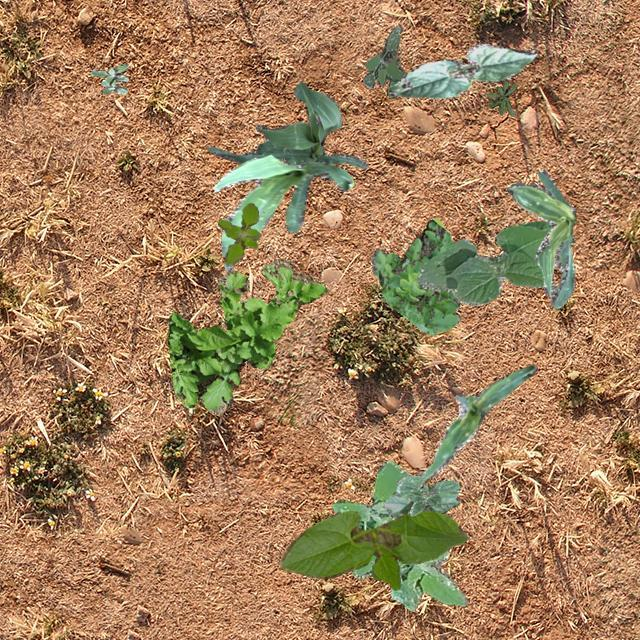crop: (213, 154, 353, 272), (278, 509, 468, 588), (205, 80, 366, 168), (418, 364, 536, 481), (416, 220, 552, 304), (506, 168, 576, 308), (388, 42, 536, 98), (382, 483, 458, 518), (394, 474, 458, 514)
weed: (166, 258, 327, 414), (332, 460, 466, 610), (371, 218, 458, 334), (362, 24, 407, 98), (216, 202, 258, 264), (90, 62, 128, 92), (486, 80, 516, 116)
